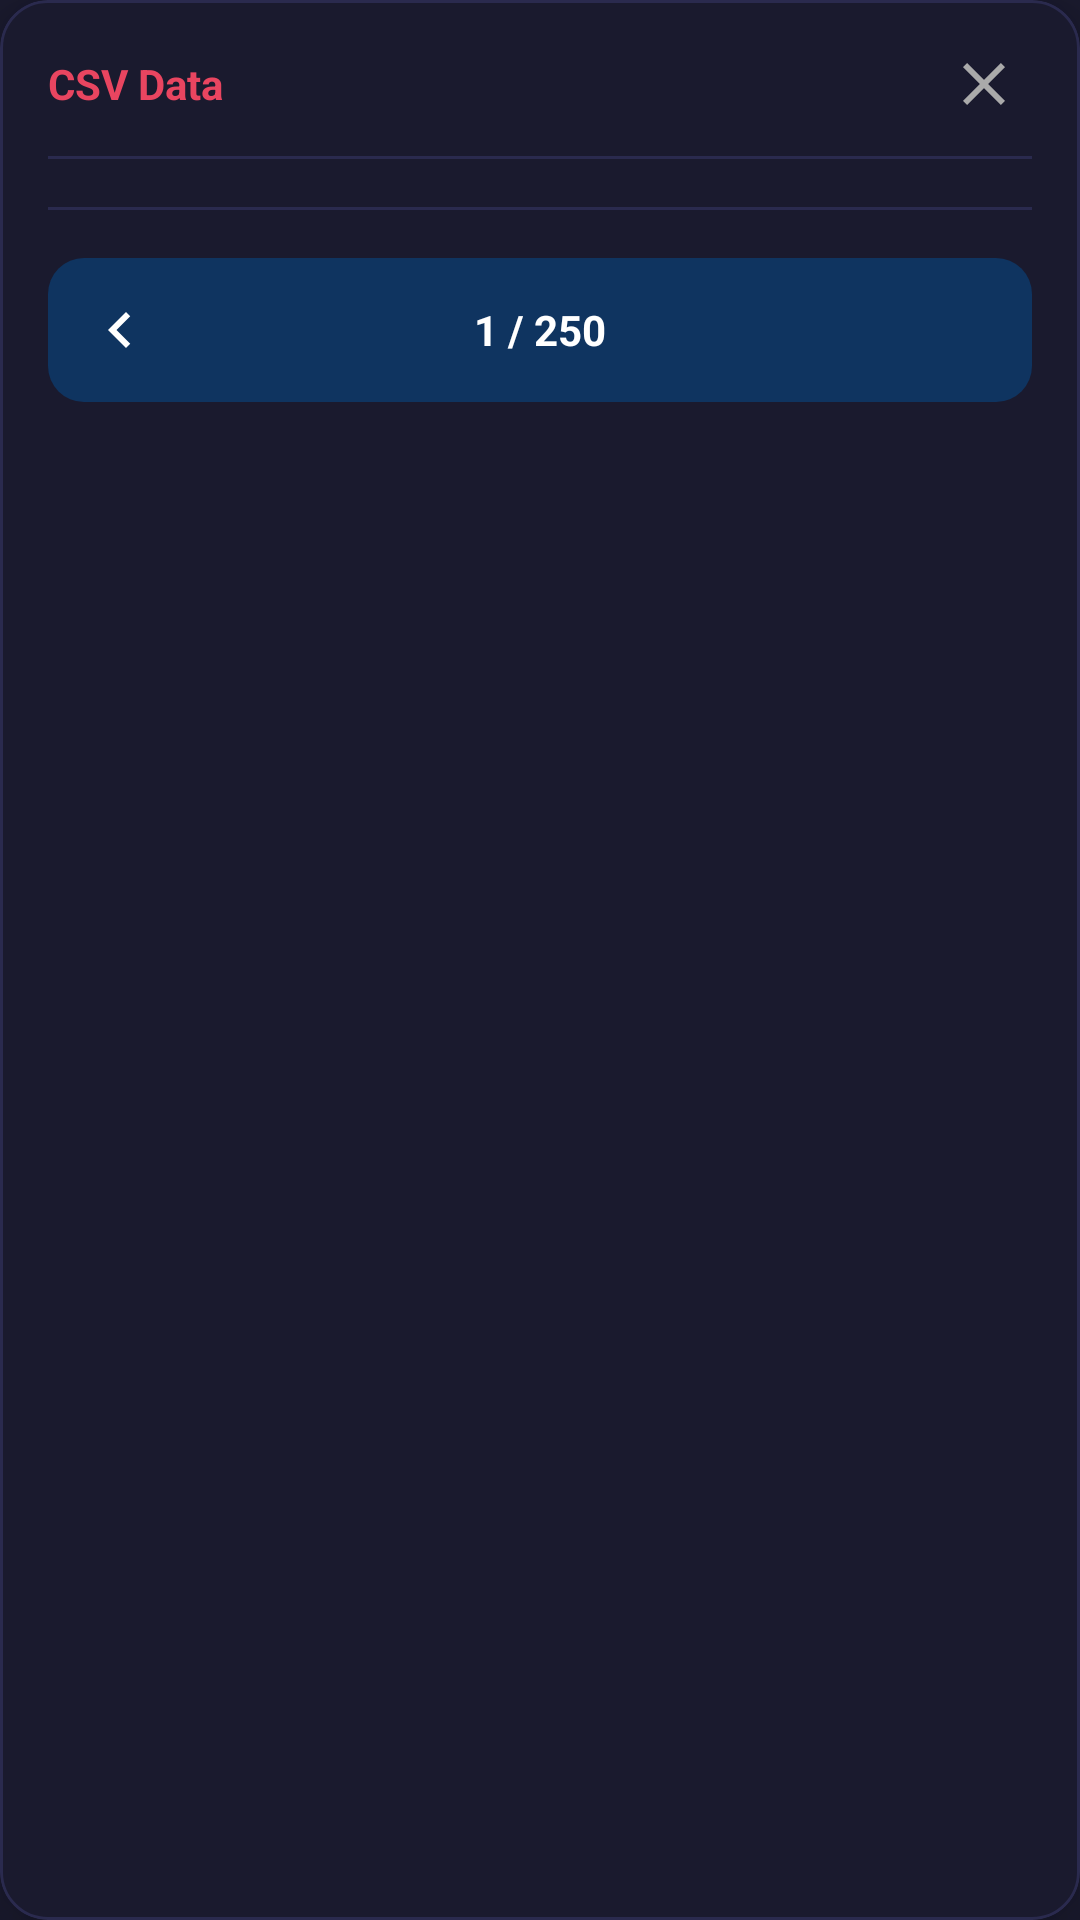

Point at icon controls on the screen. Image size 1080x1920, points as (x,y).
arrow left: (120,330)
close: (984,84)
